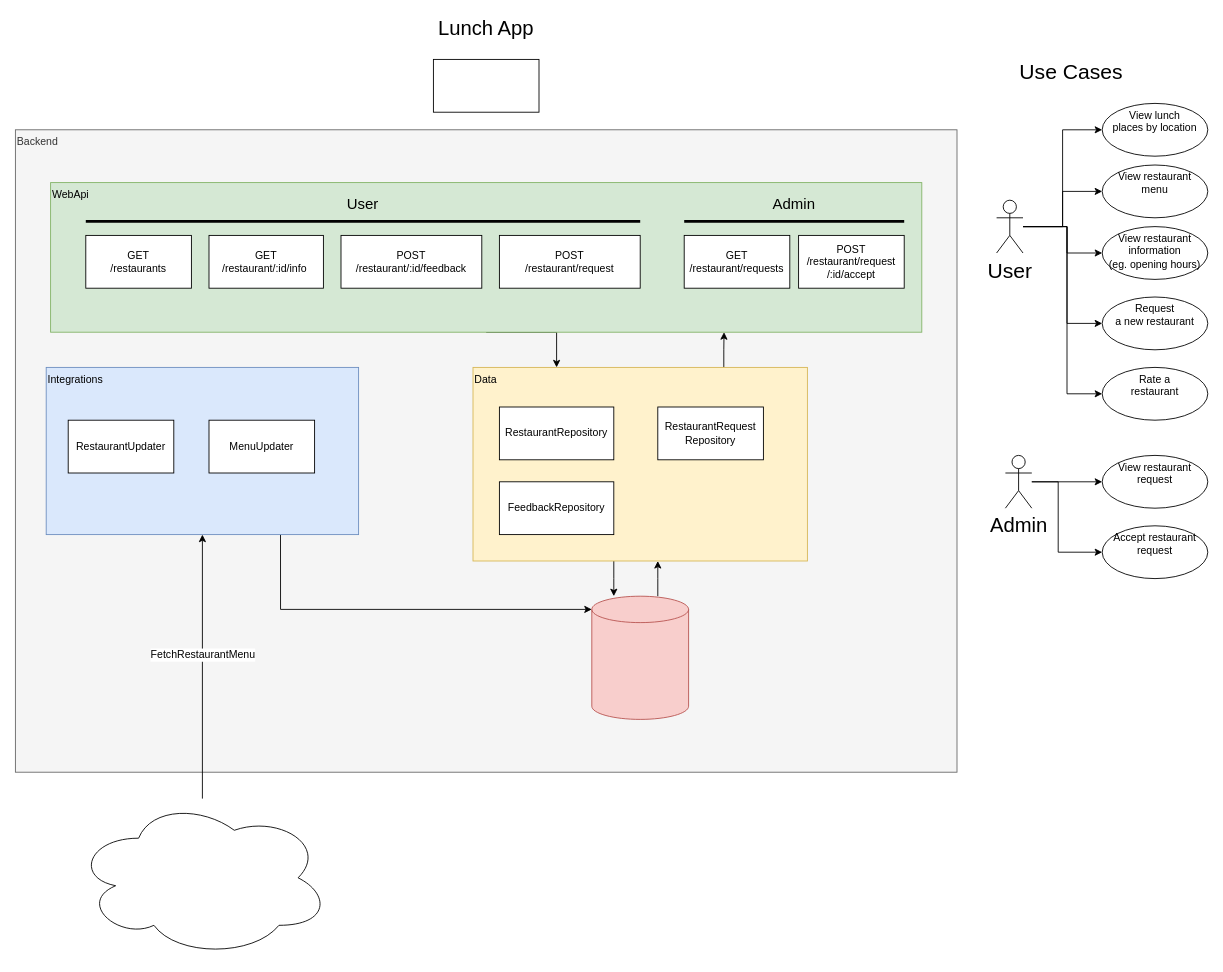
This 1223x972 diagram has some shape labels left out. Each missing label, with the centre of its shape:
Frontend: (486,85)
Lunch DB: (640,657)
Web: (202,877)
